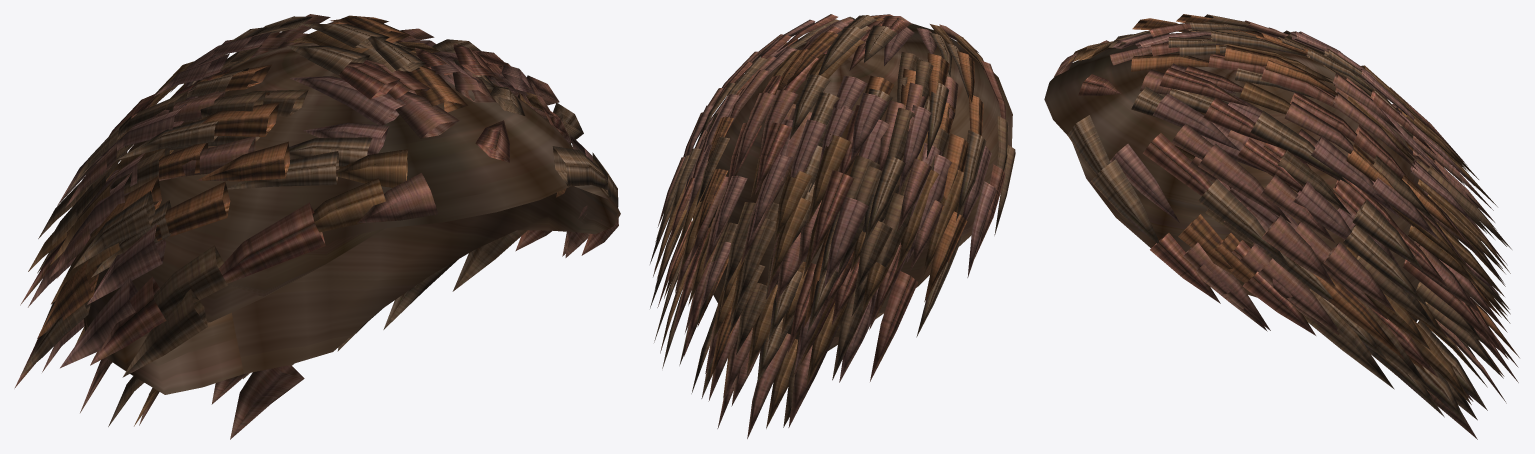
Rendered from curto.glb.
3 views of the same model, side by side, from view 1: azimuth 30°, elevation 25°; view 2: azimuth 150°, elevation 25°; view 3: azimuth 270°, elevation 25° (orthographic). The views are drawn at different scales.
Visible parts, largest first — view 1: cabelo_curto; view 2: cabelo_curto; view 3: cabelo_curto.
Part boxes in pixels (<box>): cabelo_curto: <box>14,14,620,439</box>; cabelo_curto: <box>650,14,1015,438</box>; cabelo_curto: <box>1044,14,1519,439</box>.
Bounding box in the file's own units: 0.1741 × 0.19 × 0.209.
Materials: 1 (1 with a texture image).
